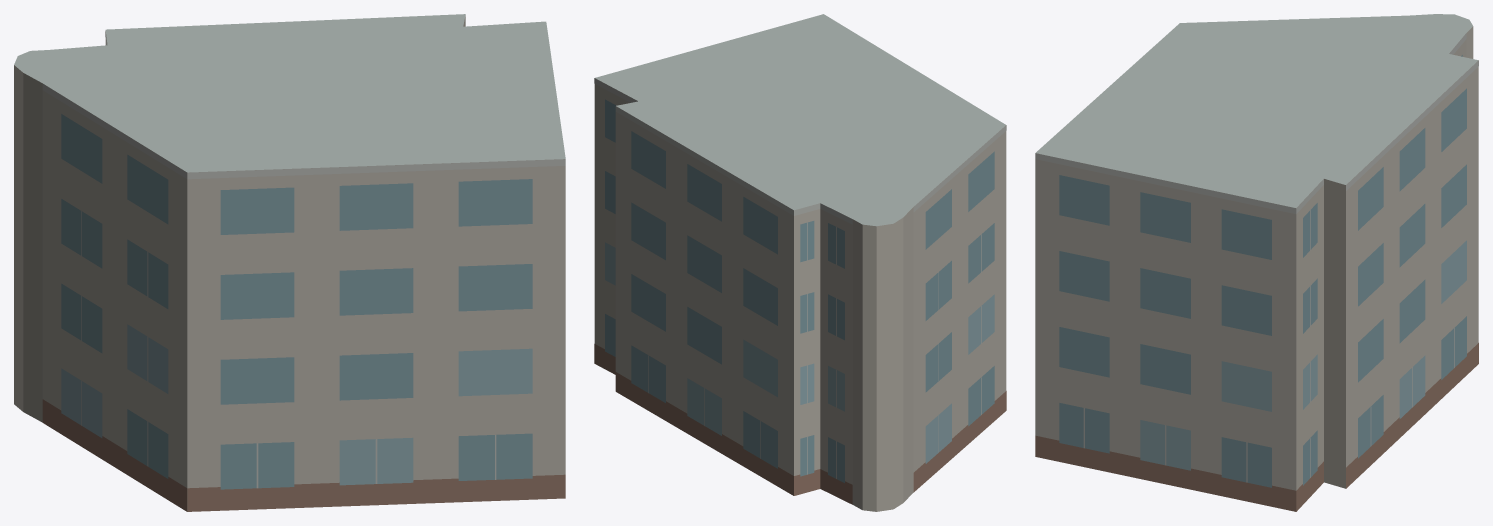
File: survey-upis-32527054.glb
3 views of the same model, side by side, from view 1: azimuth 30°, elevation 25°; view 2: azimuth 150°, elevation 25°; view 3: azimuth 270°, elevation 25° (orthographic). The views are drawn at different scales.
Parts seen in each view (by area): view 1: survey-upis-32527054.tmp; view 2: survey-upis-32527054.tmp; view 3: survey-upis-32527054.tmp.
Part boxes in pixels (<box>): survey-upis-32527054.tmp: <box>14,14,565,511</box>; survey-upis-32527054.tmp: <box>594,14,1006,511</box>; survey-upis-32527054.tmp: <box>1035,14,1478,511</box>.
Bounding box in the file's own units: 16.74 × 12.2 × 16.16.
